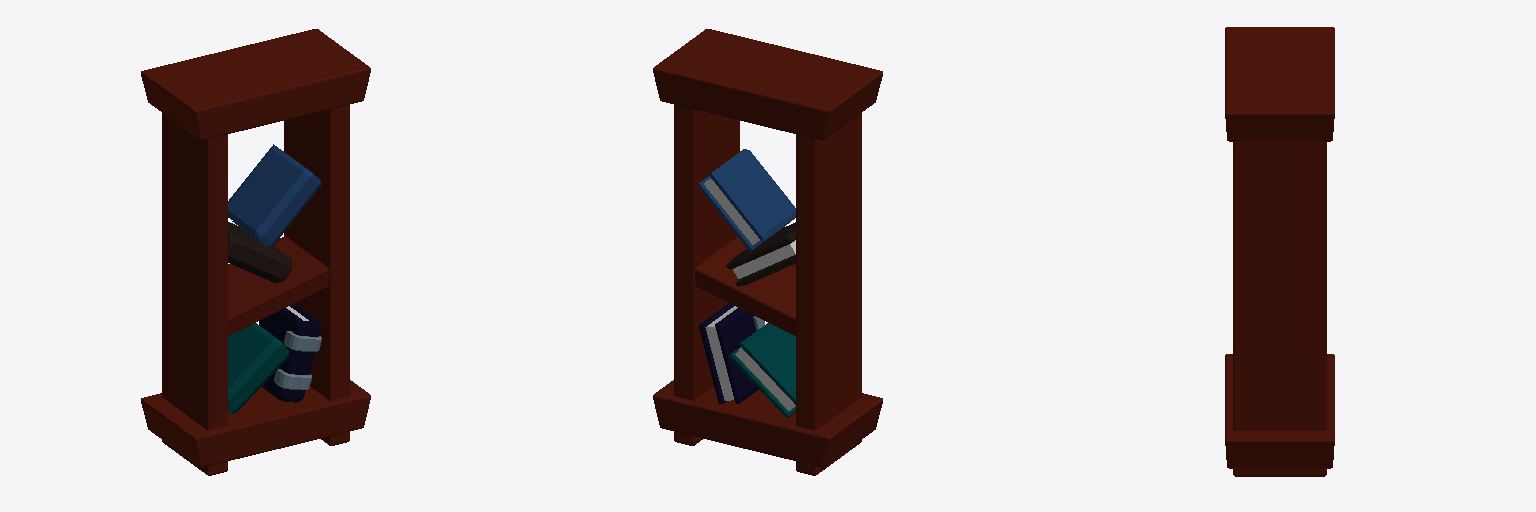
File: bookcaseFilled_broken.obj
The picture shows the model from 3 angles: view 1: azimuth 30°, elevation 25°; view 2: azimuth 150°, elevation 25°; view 3: azimuth 270°, elevation 25°; orthographic projection.
Visible parts, largest first — view 1: bookcaseFilled_broken_Cube.4112; view 2: bookcaseFilled_broken_Cube.4112; view 3: bookcaseFilled_broken_Cube.4112.
Boxes of the visible parts, box(x1,y1,x2,y2) form: bookcaseFilled_broken_Cube.4112: box(141, 29, 370, 475); bookcaseFilled_broken_Cube.4112: box(653, 29, 882, 475); bookcaseFilled_broken_Cube.4112: box(1225, 27, 1334, 476).
Bounding box in the file's own units: 0.9949 × 2 × 0.5333.